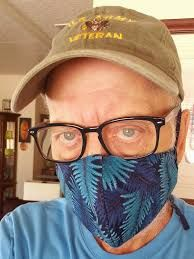with-mask: (39, 55, 191, 250)
